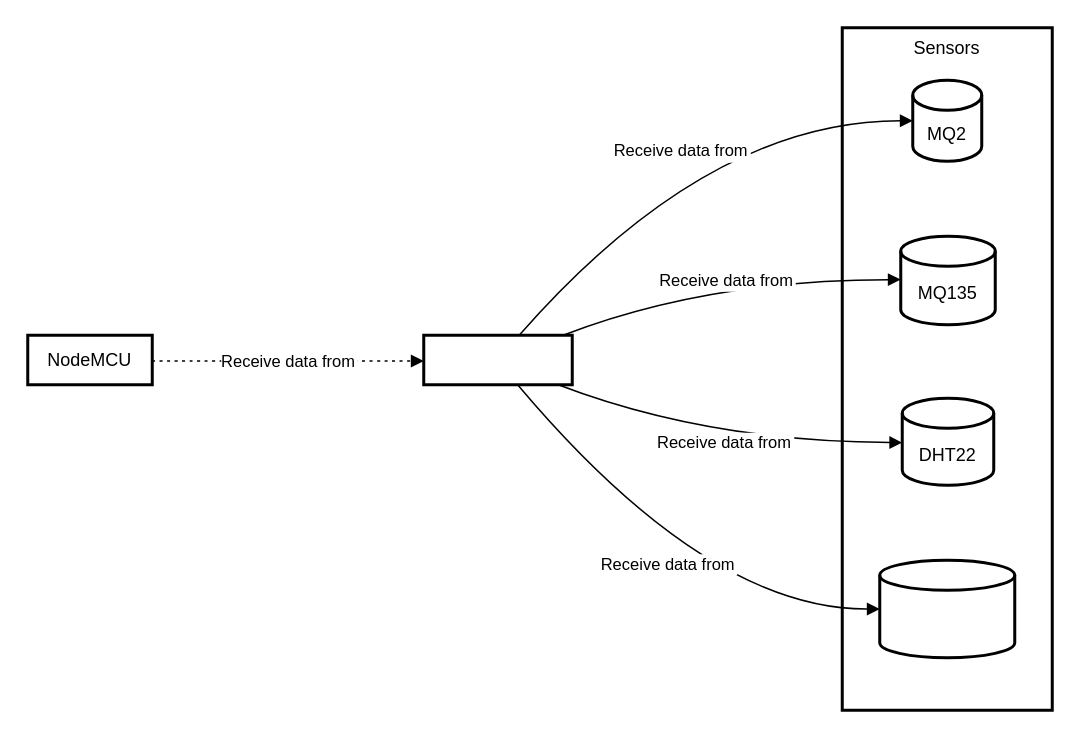
Image size: 1079x737. Some labels were removed from this diagram. The box of each missing label's shape, as (x1, y1, x2, y2) in pixels:
ArduinoUno: (422, 333, 573, 386)
Pulse Rate: (878, 558, 1016, 658)
